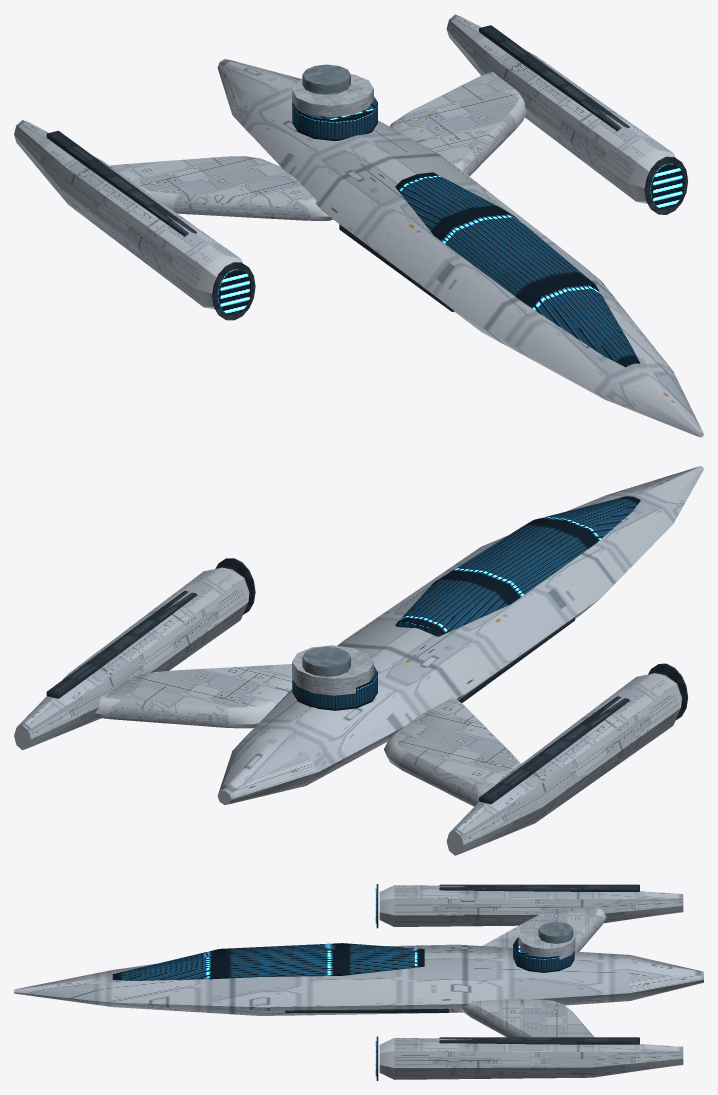
The model's file is alliance_courier_dock_probe_far.glb.
3 views of the same model, one above another, from view 1: azimuth 30°, elevation 25°; view 2: azimuth 150°, elevation 25°; view 3: azimuth 270°, elevation 25° (orthographic). The views are drawn at different scales.
Visible parts, largest first — view 1: alliance_courier_far_source; view 2: alliance_courier_far_source; view 3: alliance_courier_far_source.
Boxes of the visible parts, x1=… form: alliance_courier_far_source: x1=14, y1=14, x2=703, y2=437; alliance_courier_far_source: x1=14, y1=466, x2=703, y2=855; alliance_courier_far_source: x1=14, y1=884, x2=703, y2=1080.
Size of the model in its own units: 1.11 by 0.2295 by 1.89.
Materials: 1 (1 with a texture image).
